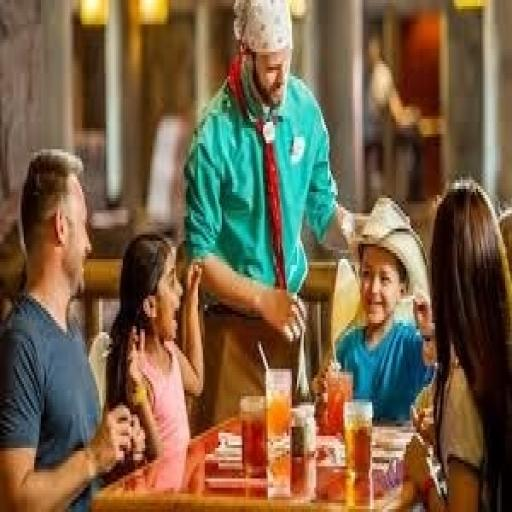eating: (0, 146, 148, 508), (398, 177, 510, 509), (102, 226, 208, 496), (324, 192, 437, 427)
